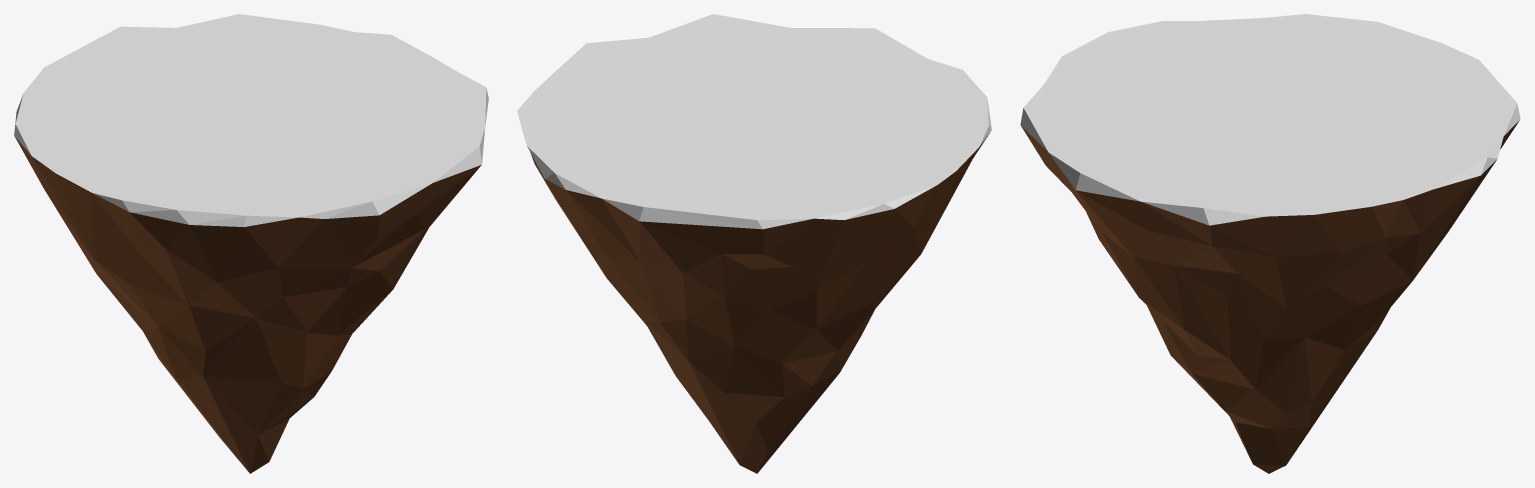
Rendered from floor-BDq8lYrO.glb.
3 renders of one model, left to right at view 1: azimuth 30°, elevation 25°; view 2: azimuth 150°, elevation 25°; view 3: azimuth 270°, elevation 25°, orthographic. The views are drawn at different scales.
Parts seen in each view (by area): view 1: Cone; view 2: Cone; view 3: Cone.
Part boxes in pixels (x1=…): Cone: x1=14, y1=14, x2=488, y2=473; Cone: x1=517, y1=14, x2=991, y2=473; Cone: x1=1020, y1=14, x2=1520, y2=473.
Bounding box in the file's own units: 2.44 × 2.06 × 2.53.
